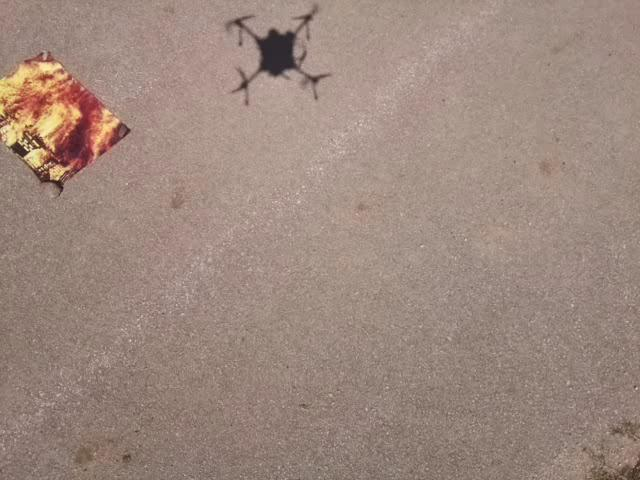fire-poster: (0, 48, 132, 195)
